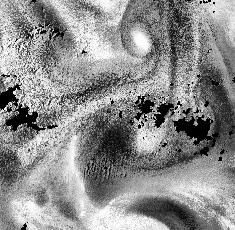CE: (117, 17, 162, 61)
